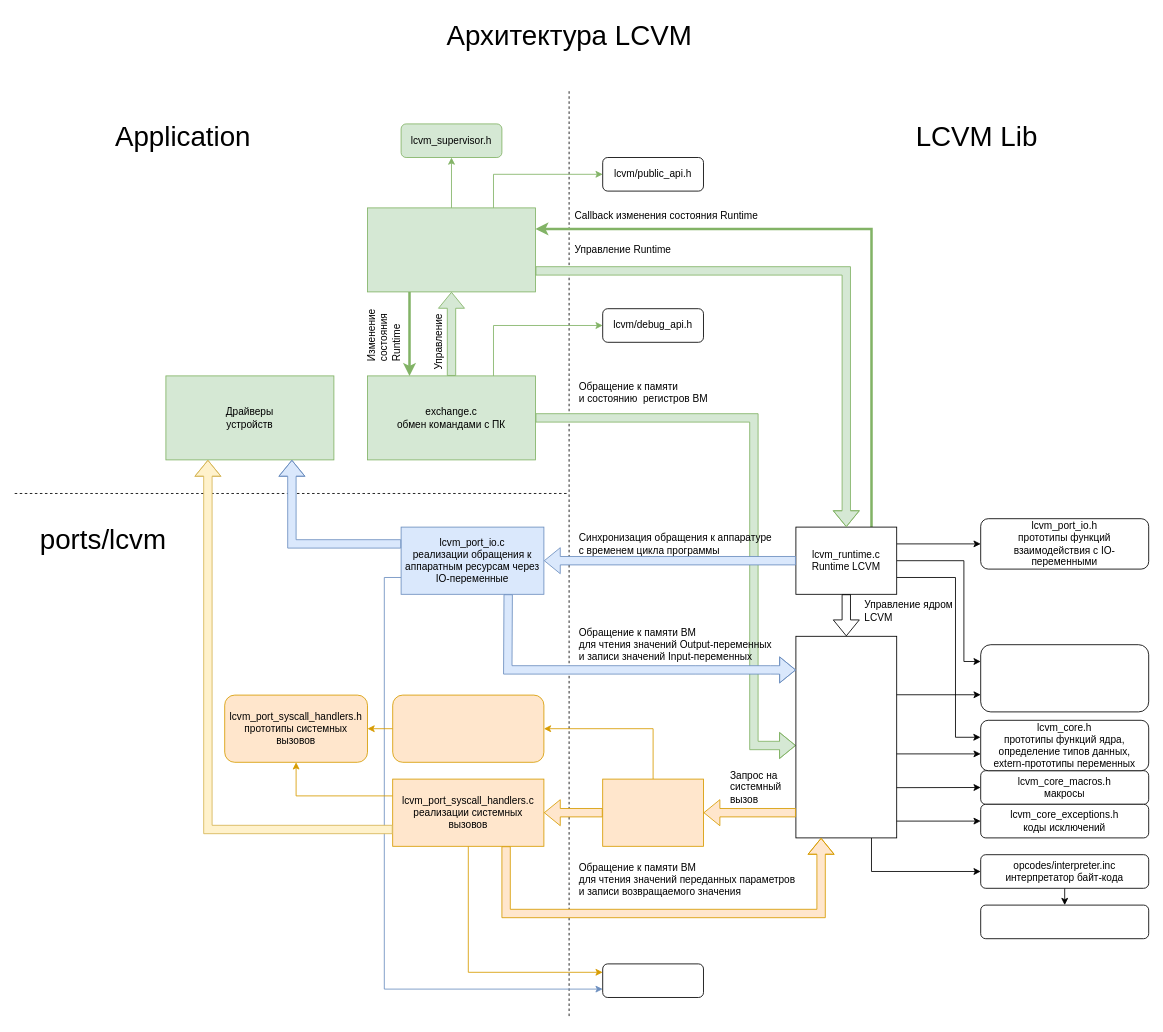
Image size: 1163x1032. Some labels were removed from this diagram. Here are the shapes that lost their labels. From the top down, the centre of each, then its label:
(x=451, y=249): lcvm_supervisor.c Управляет Runtime, отвечает за загрузку и сохранение программы
(x=1064, y=678): config/ lcvm_conf.h конфиг LCVM располагается в основном проекте
(x=468, y=728): lcvm_port_syscall_bindings.inc таблица с зарегистрированными системными вызовами
(x=846, y=736): lcvm_core.c ядро виртуальной машины
(x=653, y=812): lcvm_syscall.c вызов системных функций из байт-кода
(x=1064, y=921): opcodes/OPCODE_*.inc реализации кодов операций
(x=653, y=980): lcvm/internal_api.h
